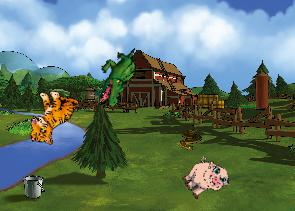crocodile: (97, 46, 137, 108)
pig: (177, 151, 233, 206)
tiger: (27, 87, 79, 147)
